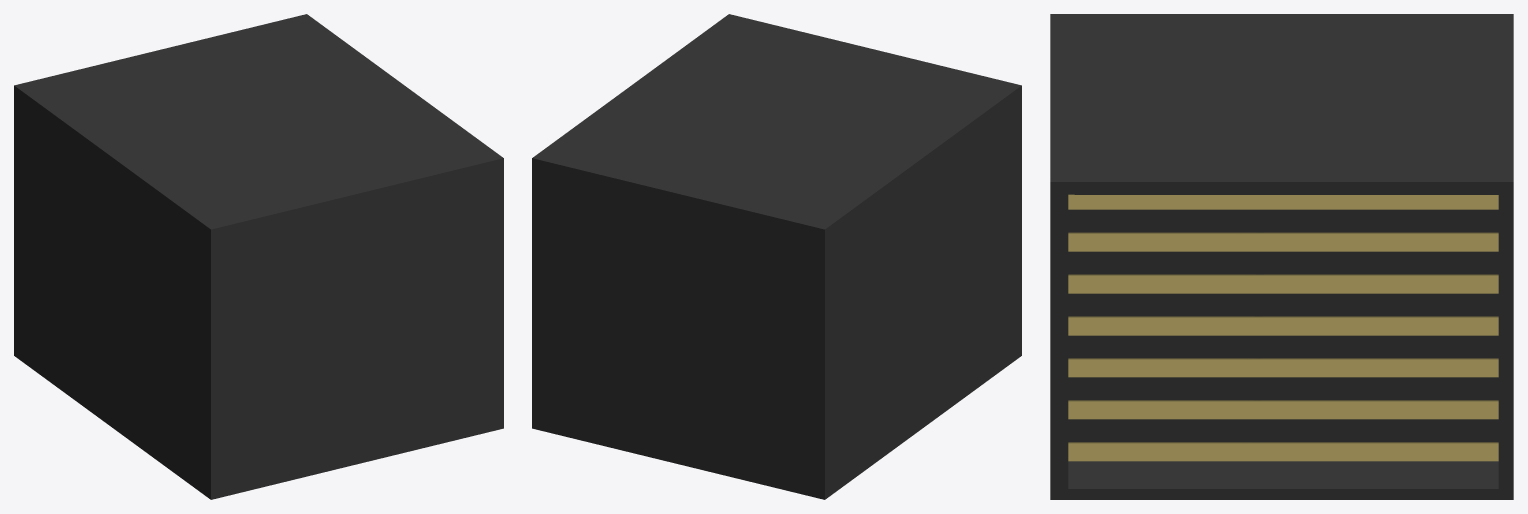
File: elevator.fbx
3 views of the same model, side by side, from view 1: azimuth 30°, elevation 25°; view 2: azimuth 150°, elevation 25°; view 3: azimuth 270°, elevation 25° (orthographic). The views are drawn at different scales.
Parts seen in each view (by area): view 1: Cube; view 2: Cube; view 3: Cube.001, Cube.
Part boxes in pixels (box(x1,y1,x2,y2)): Cube: box(14, 14, 503, 499); Cube: box(532, 14, 1021, 499); Cube.001: box(1068, 194, 1498, 461); Cube: box(1050, 14, 1513, 499).
Bounding box in the file's own units: 363 × 321 × 423.
Materials: 2 (2 with a texture image).
